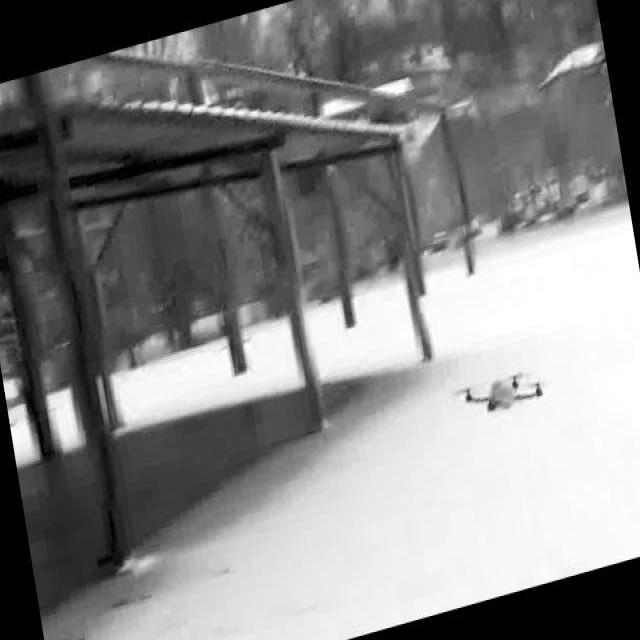drone: (444, 347, 556, 437)
